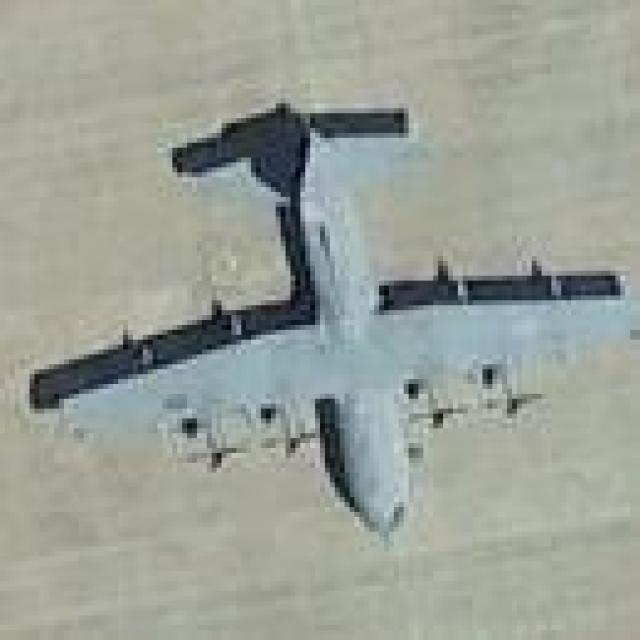C-130_TopDown: (28, 97, 638, 549)
